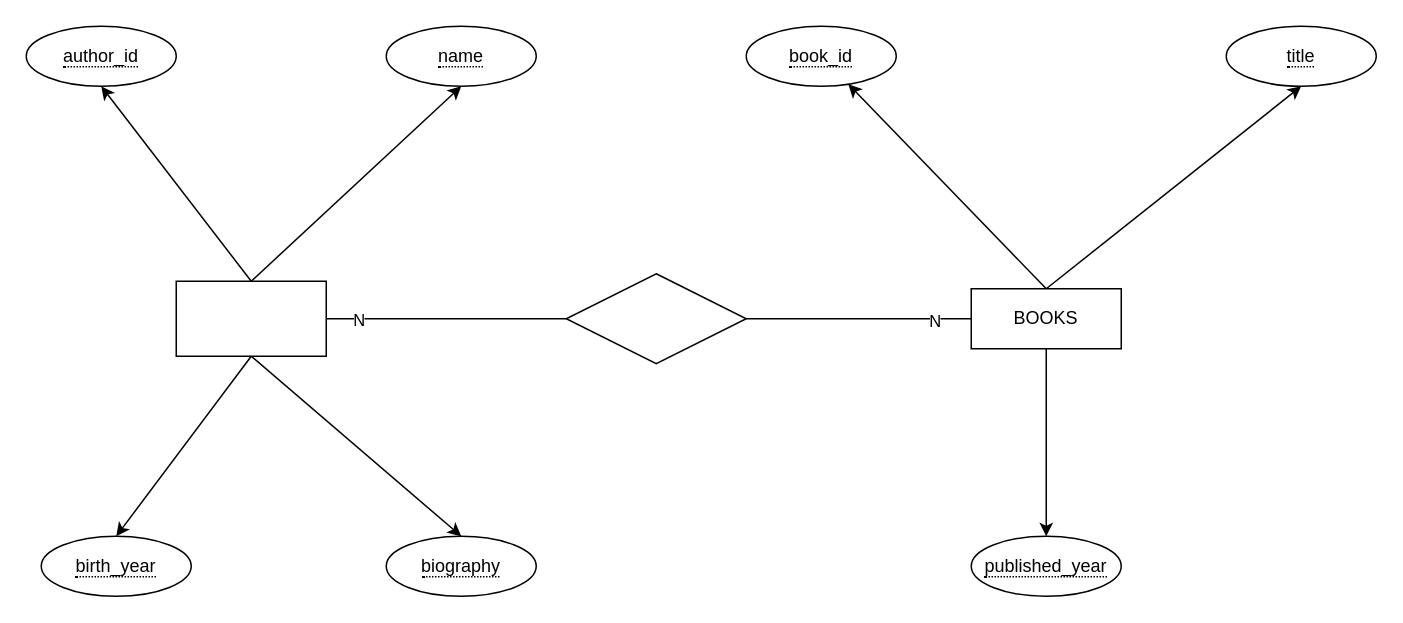
Some shapes in this 1403 by 623 pixel diagram are drawn without their labels. Here are the shapes that lost their labels. From the top down, the centre of each, then its label:
At (250,318): "AUTHORS".
At (655,318): "Thuộc".
